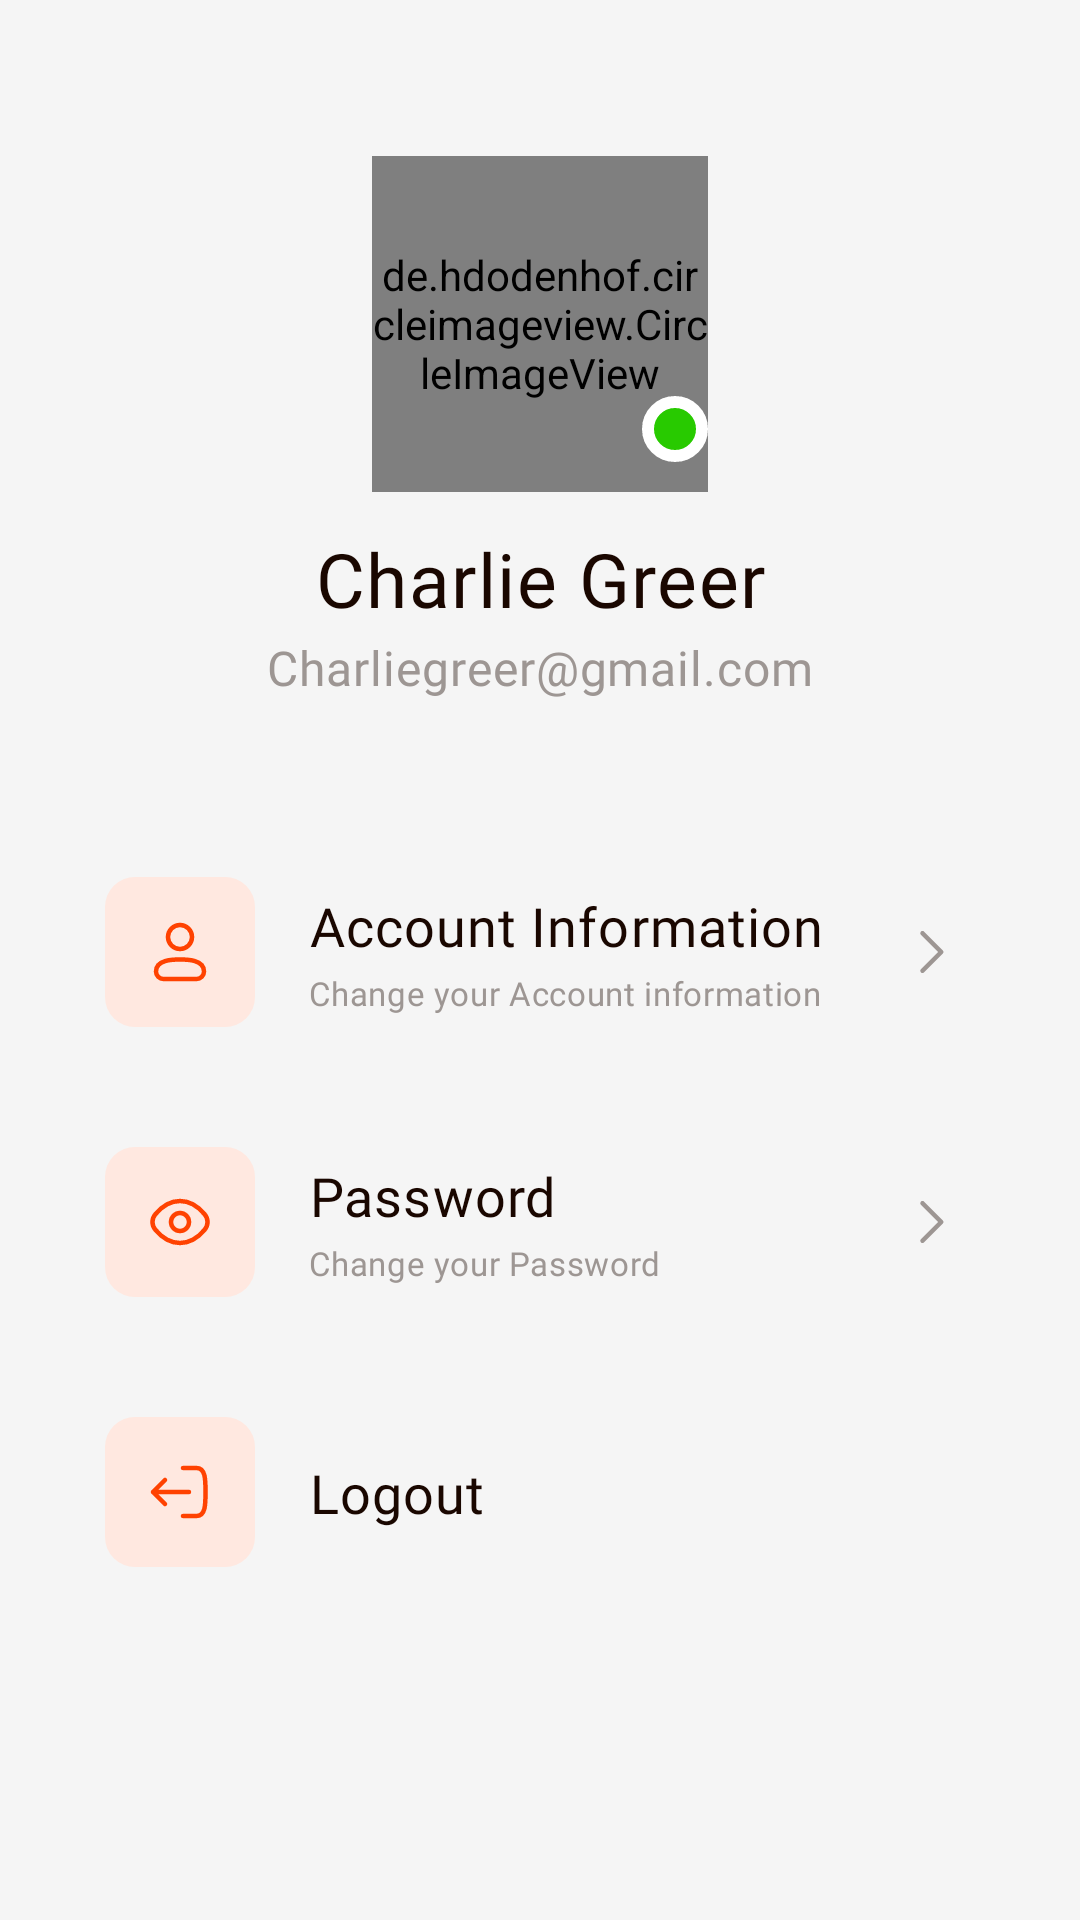

Where to tap for icons on this 1080x1920 app screen, as (x,y):
arr right: (932,952), (932,1222)
profile accout info: (180,952)
